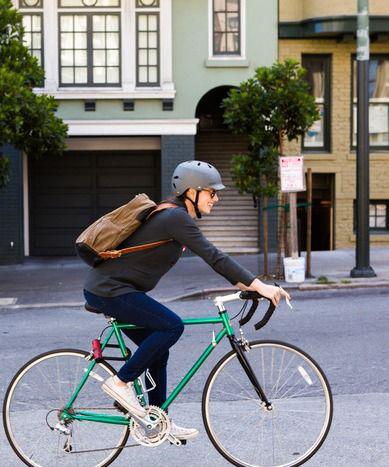bikerider: (1, 149, 339, 463)
